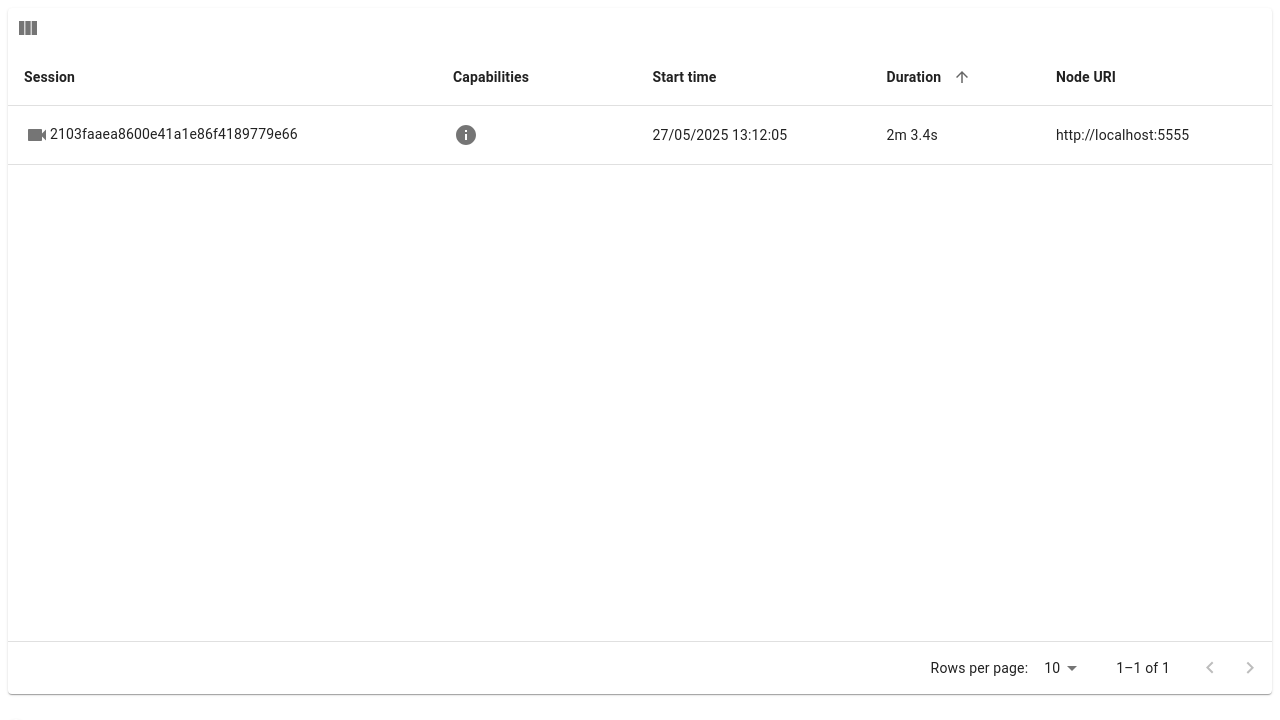
it: Session deletion functionality › shows error feedback when deletion fails
Click the button with test id "InfoIcon" at (466, 135), box x1=453 y1=122 x2=479 y2=148
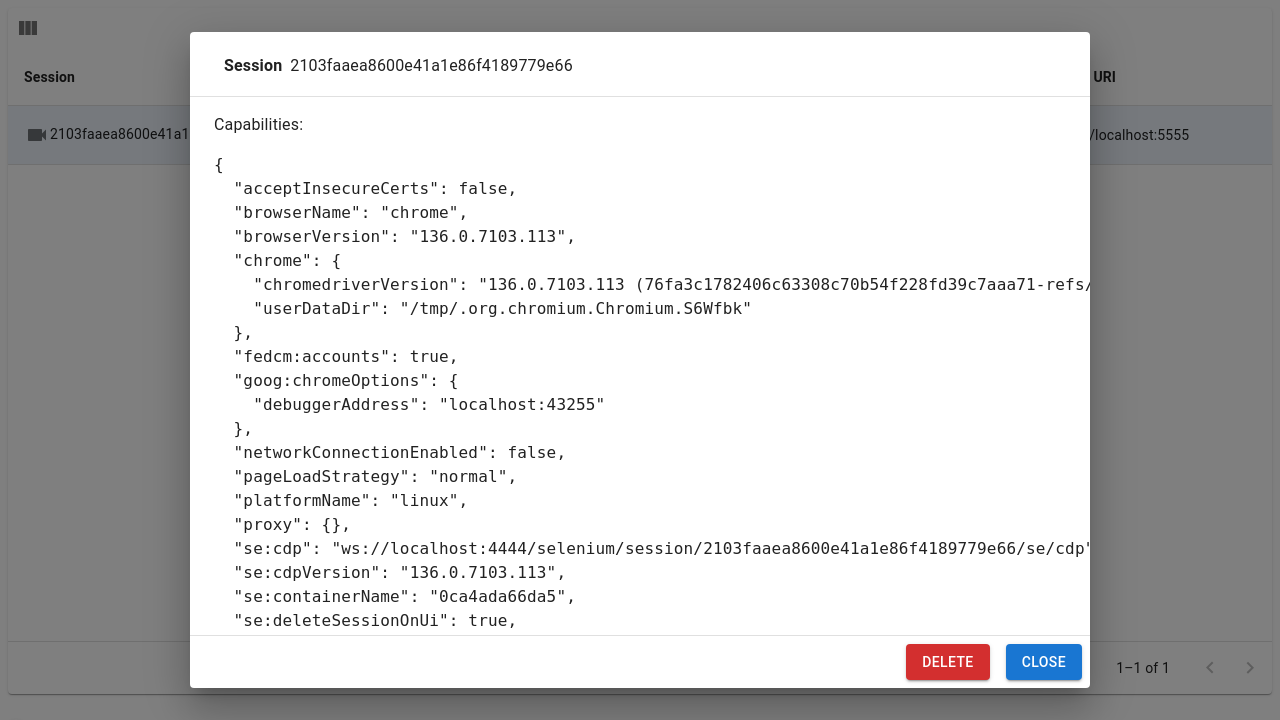
Click the button "Delete" at (948, 662), box x1=906 y1=644 x2=990 y2=680
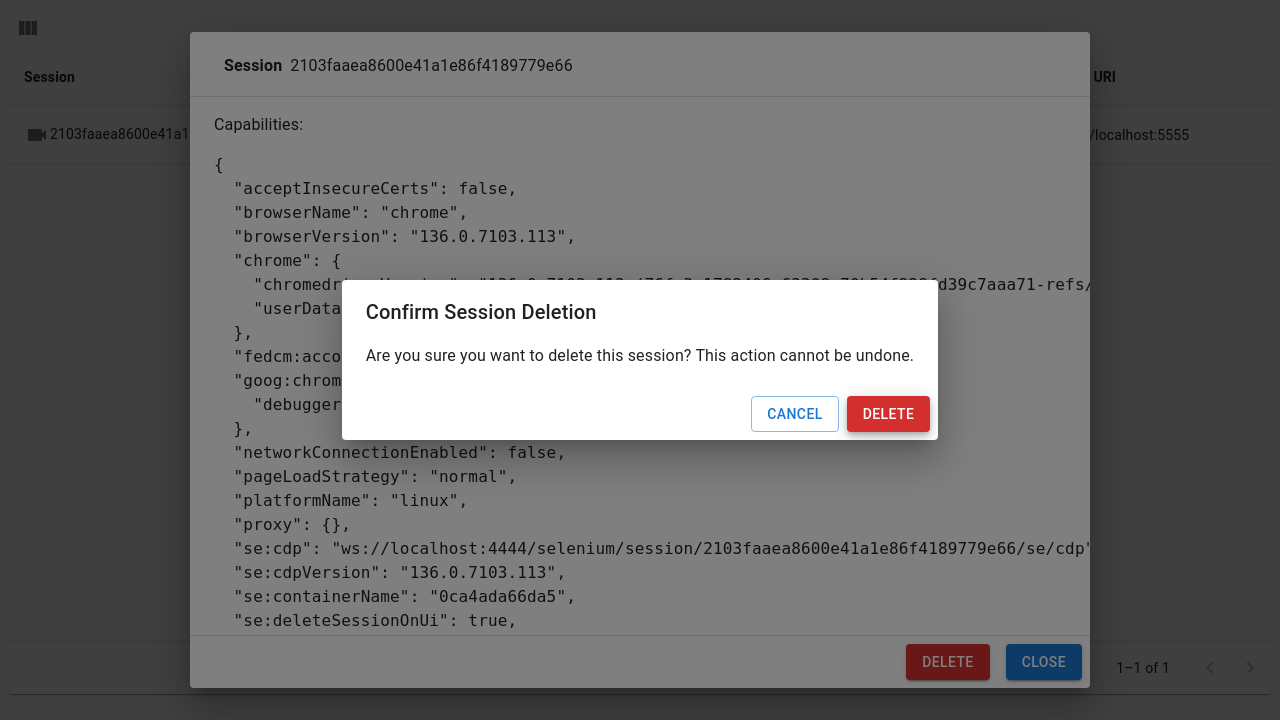
Click the button "Delete" at (888, 414), box x1=847 y1=396 x2=930 y2=432
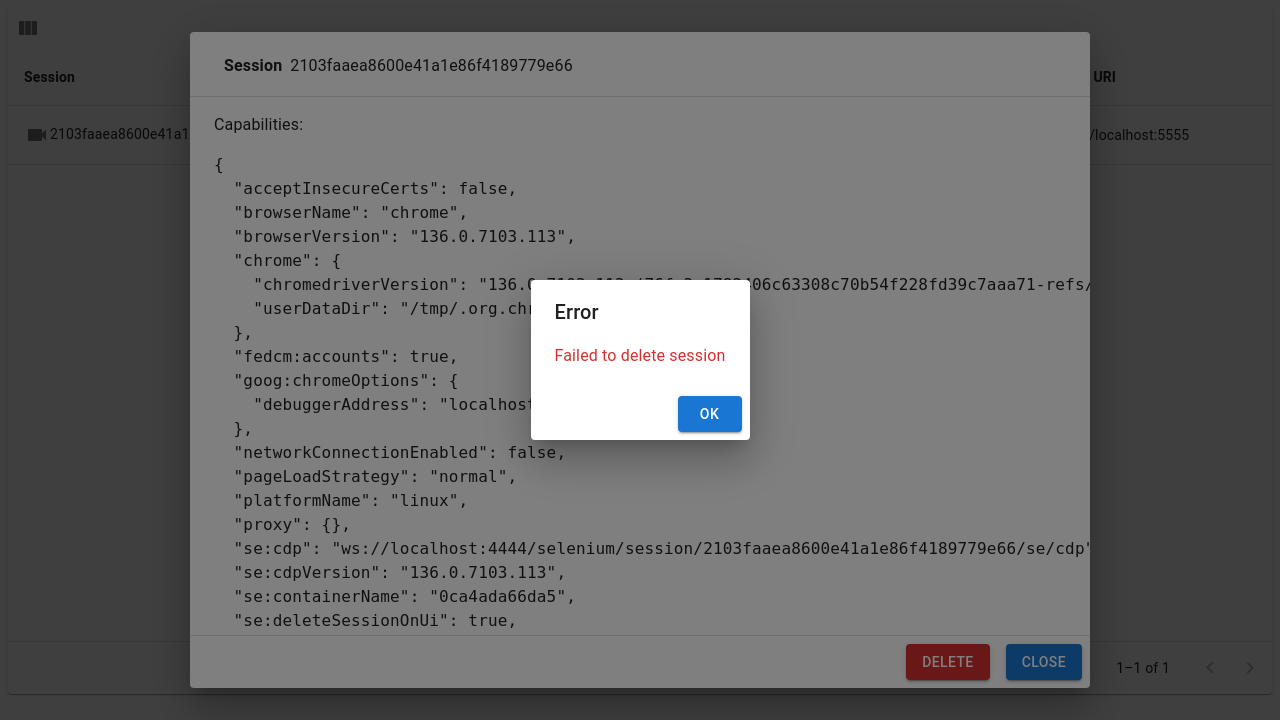
Result: the heading "Error" is shown at x1=554 y1=300 x2=599 y2=324
Result: the text "Failed to delete session" is shown at x1=554 y1=344 x2=726 y2=368
